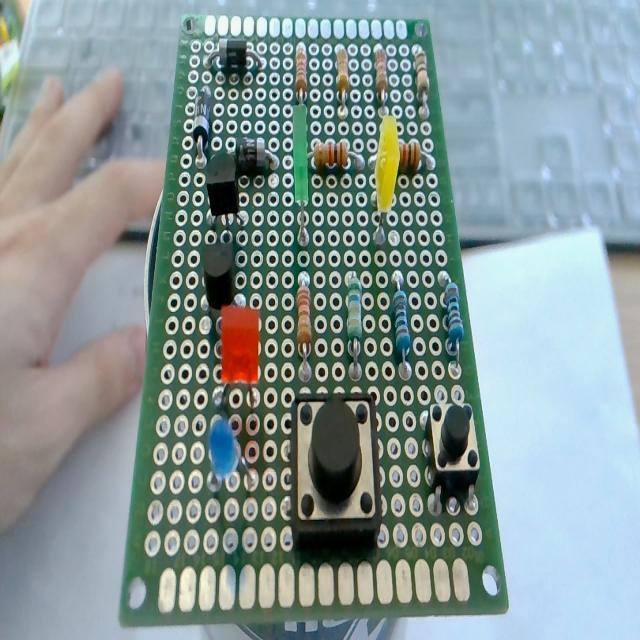diode: (205, 39, 262, 74), (191, 86, 211, 172), (235, 138, 277, 176)
led: (218, 302, 262, 426), (208, 412, 255, 492), (374, 114, 401, 242), (293, 105, 310, 249)
resistor: (439, 272, 465, 376), (391, 270, 413, 382), (346, 275, 364, 383), (296, 278, 314, 380), (309, 141, 365, 173), (414, 47, 432, 120), (336, 46, 350, 118), (398, 140, 422, 174), (294, 45, 308, 101), (375, 46, 387, 102)
switch: (290, 392, 382, 544), (425, 400, 479, 508)
transistor: (205, 148, 242, 246), (202, 238, 235, 312)
